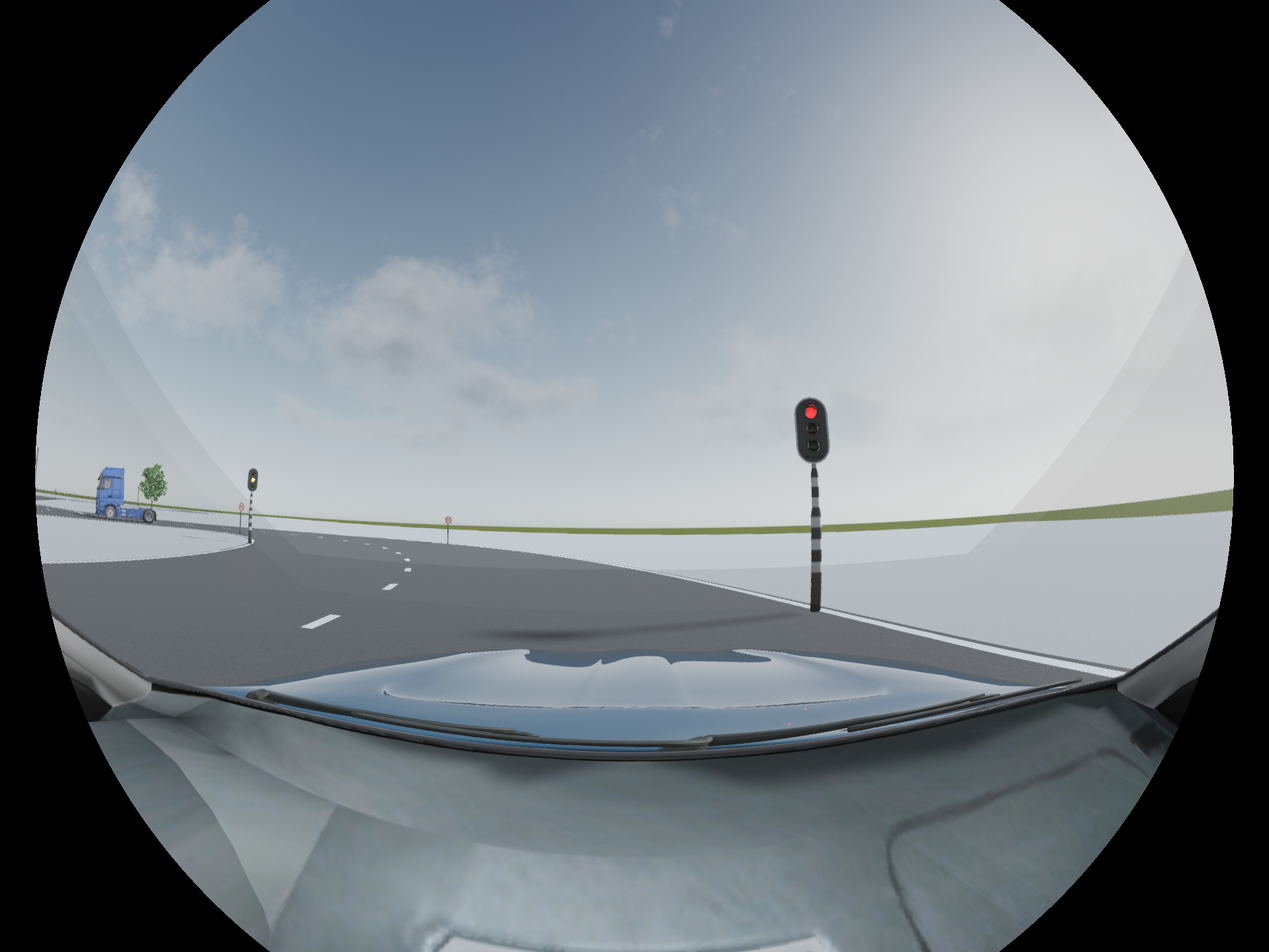Red Light: (793, 392, 830, 465)
